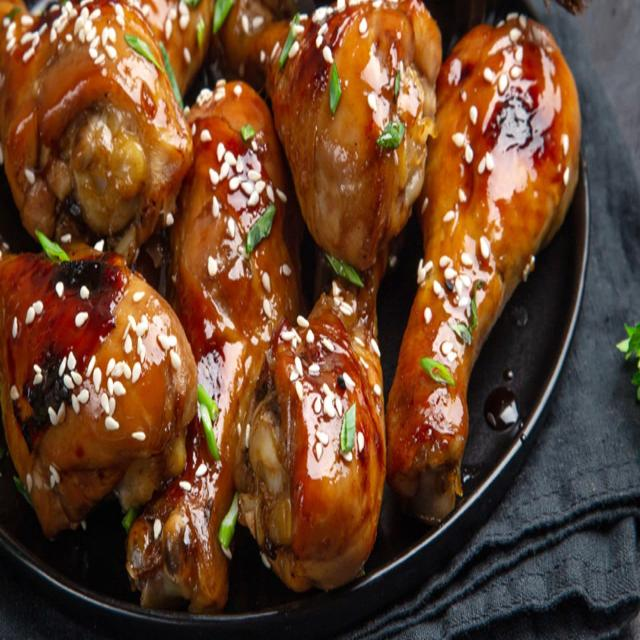pollo: (417, 0, 589, 523), (140, 61, 287, 618)
